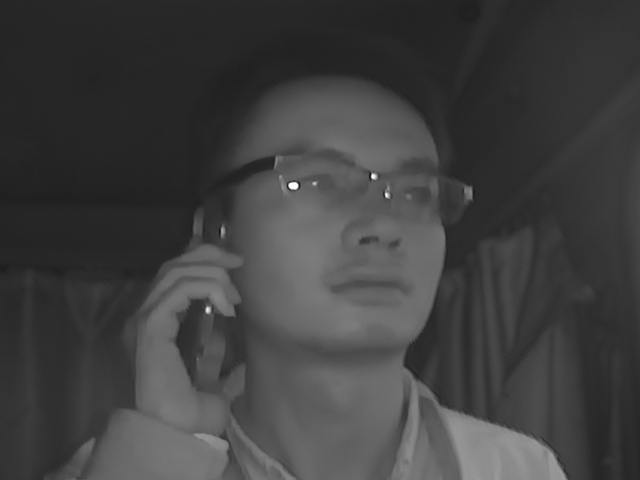hand: (125, 245, 247, 433)
